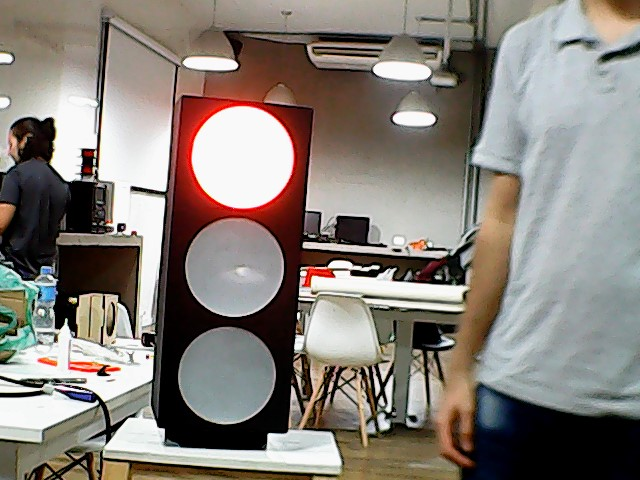vermelho: (148, 90, 325, 436)
